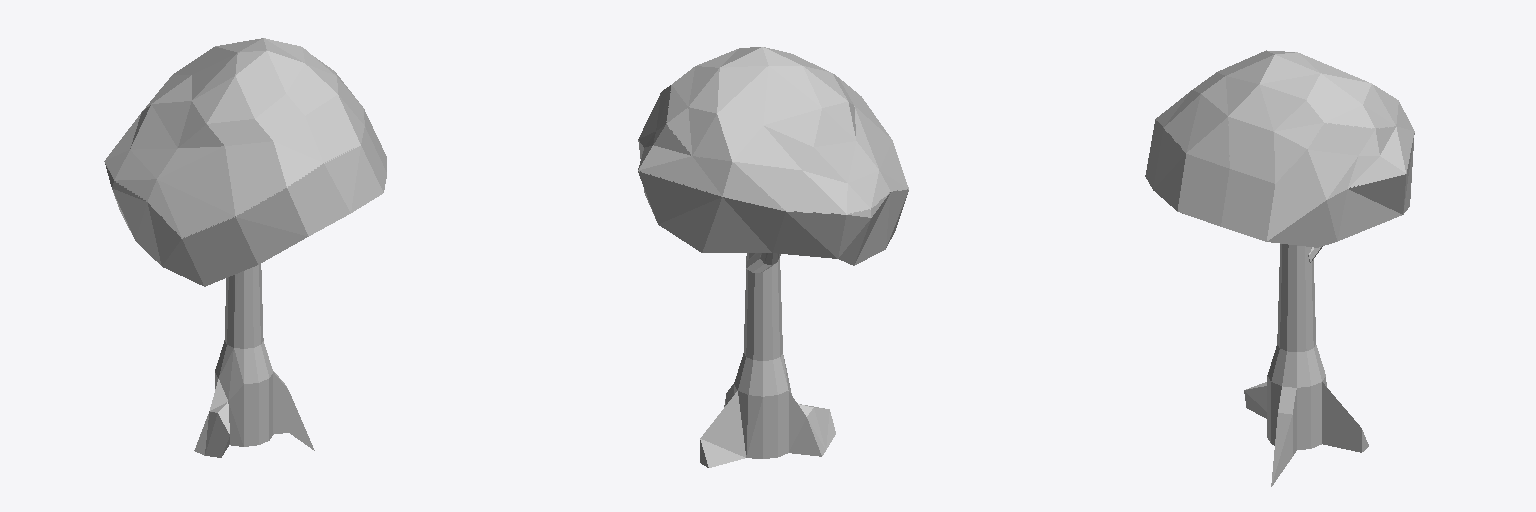
Rendered from basetree1.obj.
The picture shows the model from 3 angles: view 1: azimuth 30°, elevation 25°; view 2: azimuth 150°, elevation 25°; view 3: azimuth 270°, elevation 25°; orthographic projection.
Visible parts, largest first — view 1: Plane, Cylinder; view 2: Plane, Cylinder; view 3: Plane, Cylinder.
Part boxes in pixels (left/top/right/bottom): Plane: left=104, top=38, right=386, bottom=286; Cylinder: left=194, top=264, right=314, bottom=457; Plane: left=638, top=47, right=908, bottom=265; Cylinder: left=700, top=253, right=835, bottom=467; Plane: left=1145, top=50, right=1414, bottom=247; Cylinder: left=1244, top=244, right=1368, bottom=486.
Size of the model in its own units: 9.74 by 15.43 by 9.17.